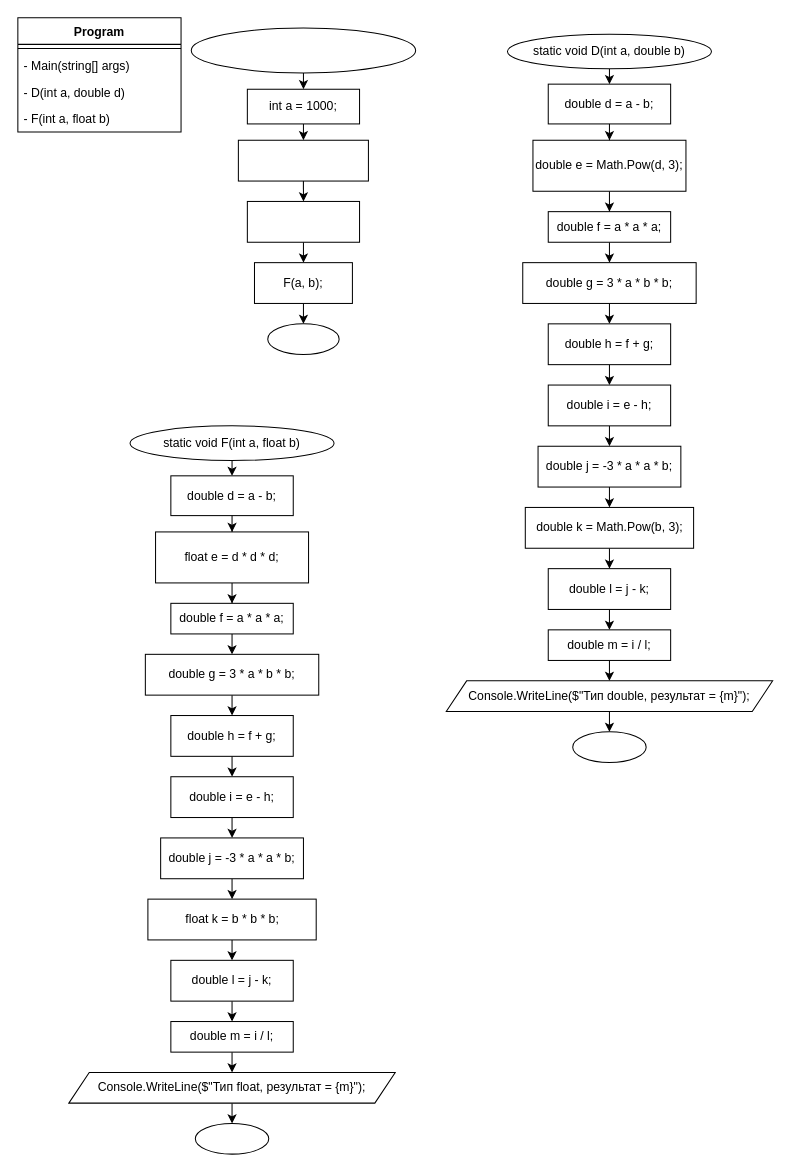
Some shapes in this 791 by 1172 pixel diagram are drawn without their labels. The centre of each missing label's shape, as x and y in pixels:
"D(a, b);" belongs at point 303,221.
"float b = 0.0001f;" belongs at point 302,160.
"static void Main(string[] args)" belongs at point 303,50.
